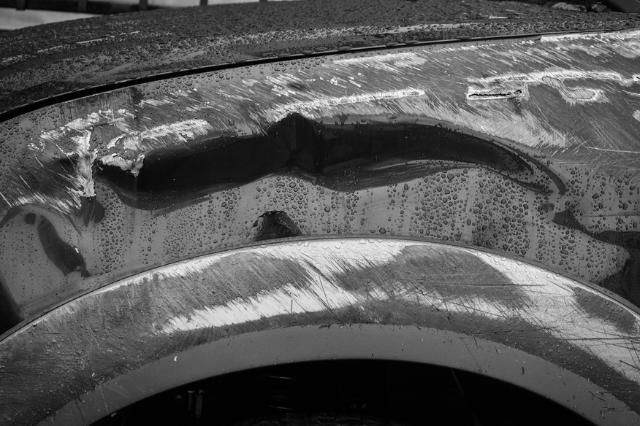Fender: (0, 34, 640, 426)
